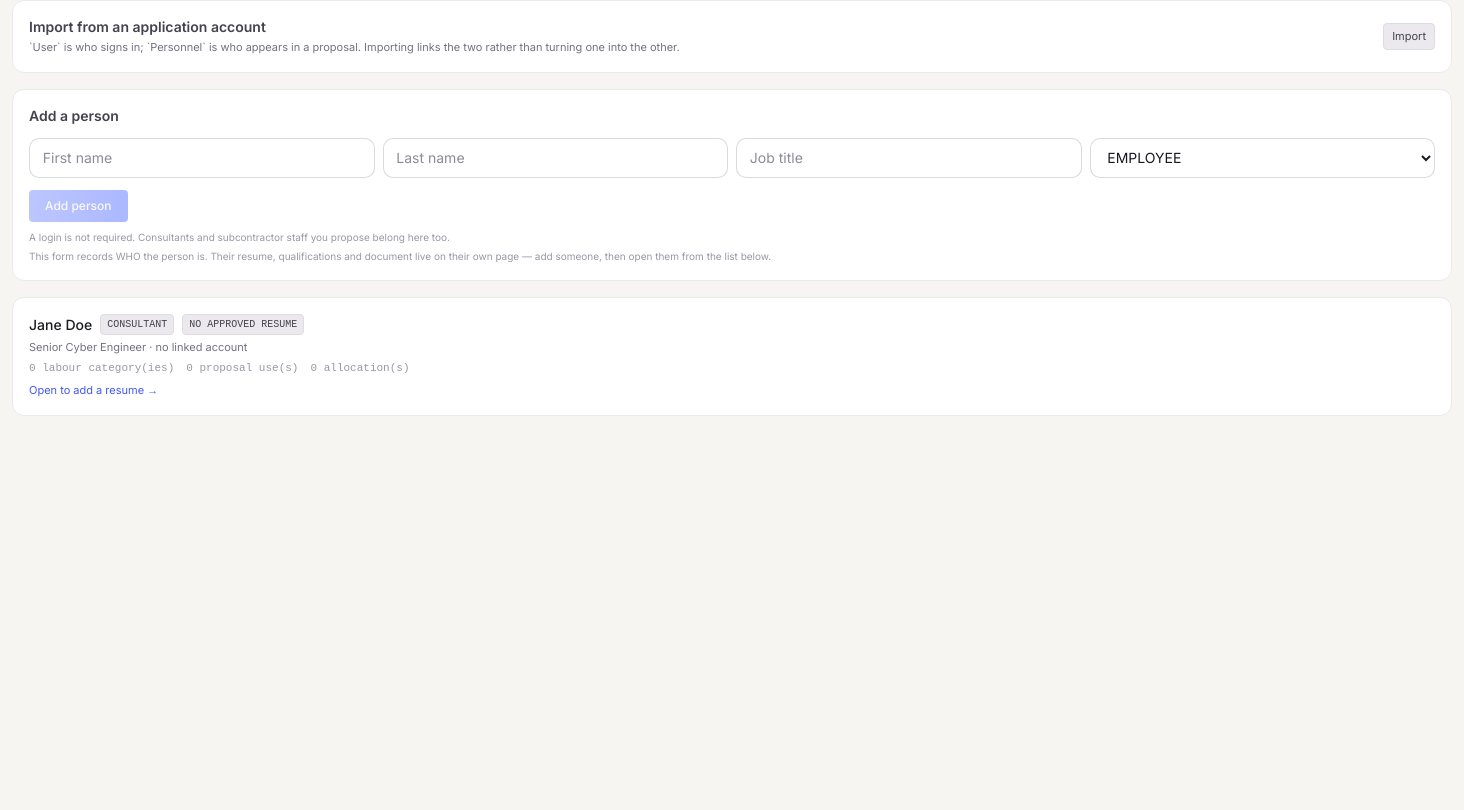
Personnel detail — adding a resume › uploading a document creates the version it belongs to
The image size is (1464, 810).
Click the text "Jane Doe" at (61, 325), box [29,315,92,335]
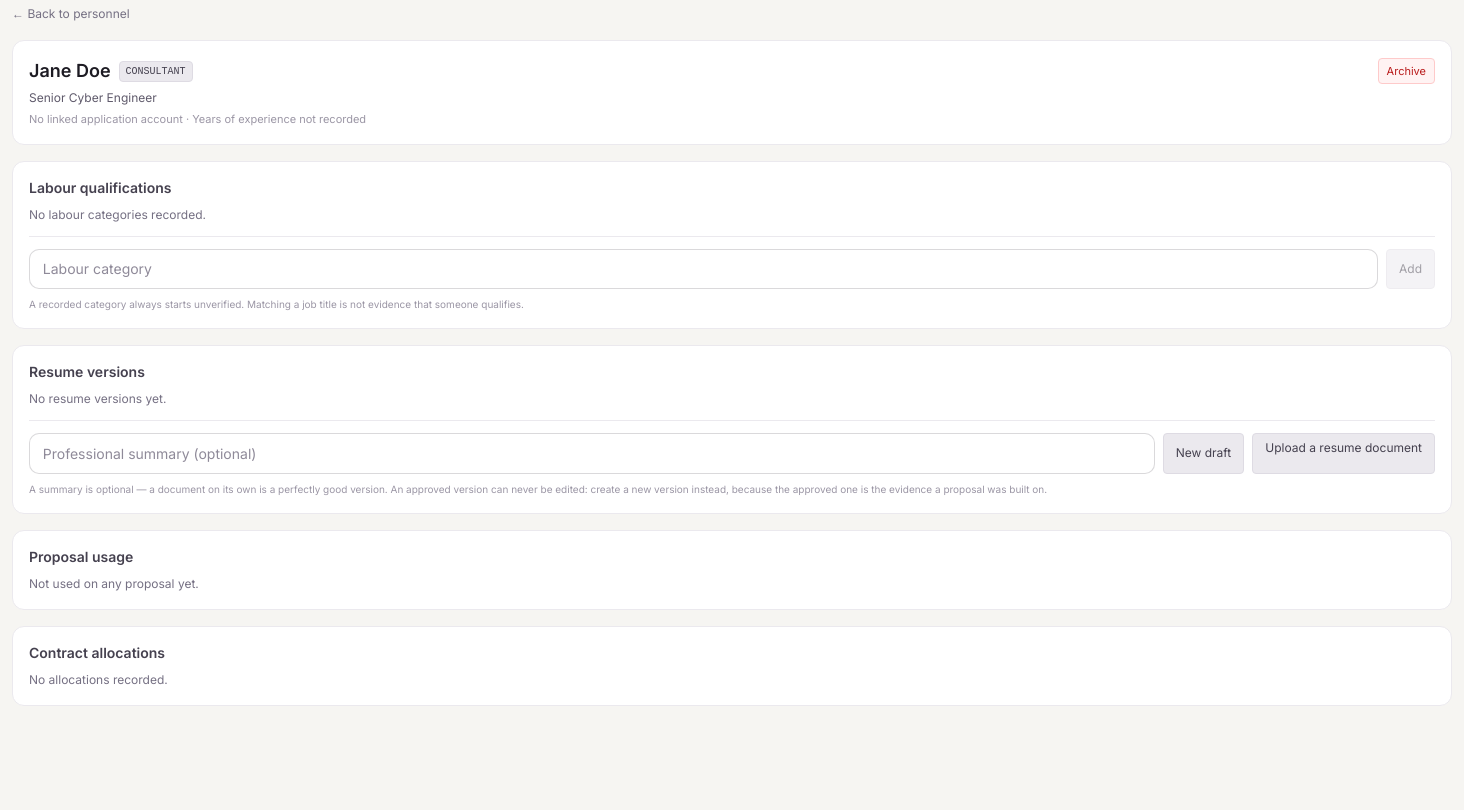
Expected: the field named "Resume summary" is shown, [29,433,1155,474]
